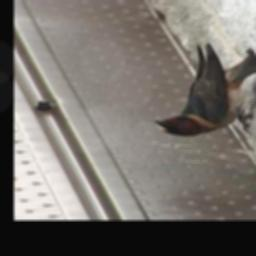Swallow: (154, 43, 256, 136)
